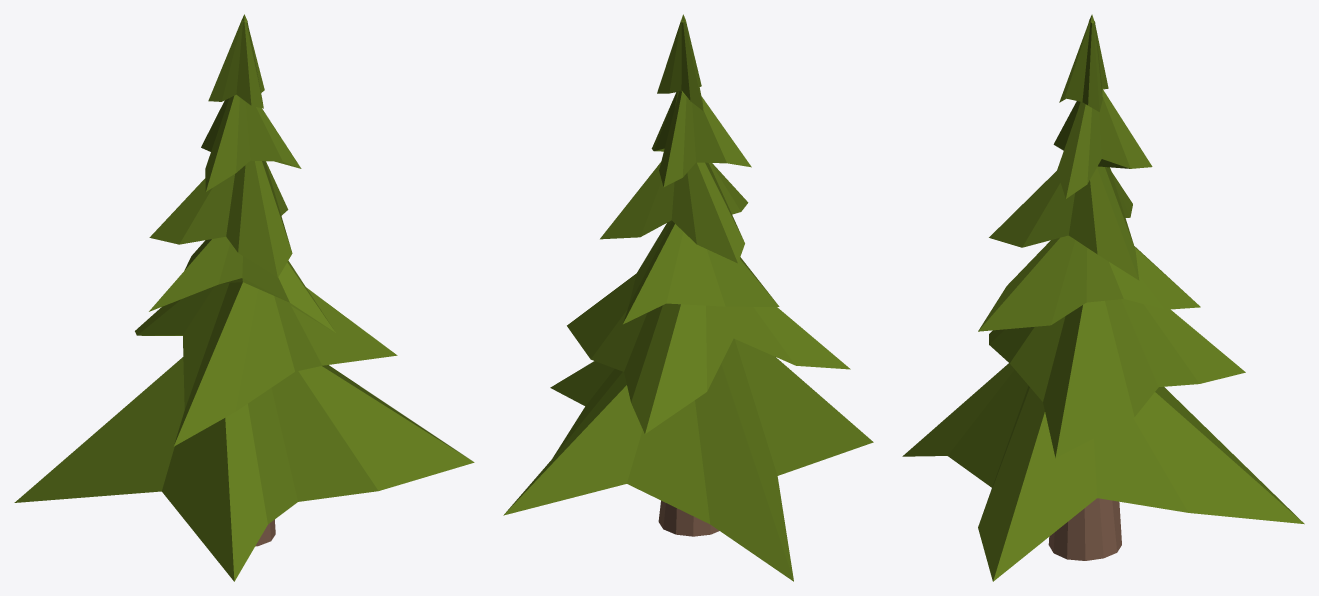
File: Kuusi2Rangeriin.fbx
3 views of the same model, side by side, from view 1: azimuth 30°, elevation 25°; view 2: azimuth 150°, elevation 25°; view 3: azimuth 270°, elevation 25° (orthographic). The views are drawn at different scales.
Parts seen in each view (by area): view 1: Cylinder; view 2: Cylinder; view 3: Cylinder.
Boxes of the visible parts, x1,y1,x2,y2 form: Cylinder: (14,14,474,581); Cylinder: (503,14,873,581); Cylinder: (902,14,1304,581).
Bounding box in the file's own units: 734 × 1022 × 697.
